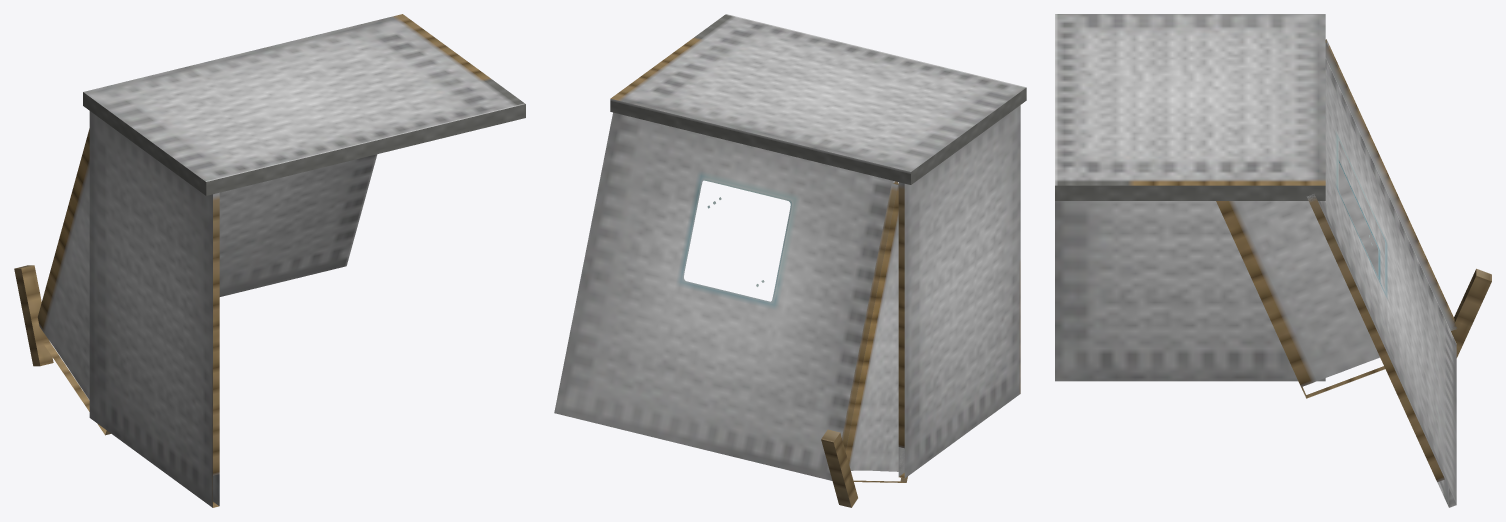
File: tentPart3.obj
The picture shows the model from 3 angles, left to right: view 1: azimuth 30°, elevation 25°; view 2: azimuth 150°, elevation 25°; view 3: azimuth 270°, elevation 25°; orthographic projection. The views are drawn at different scales.
Visible parts, largest first — view 1: cube; view 2: cube; view 3: cube.
Part boxes in pixels (x1,y1,x2,y2): cube: (14,14,525,507); cube: (554,14,1026,507); cube: (1055,14,1491,507).
Bounding box in the file's own units: 3 × 3.05 × 3.23.
Materials: 1 (1 with a texture image).
